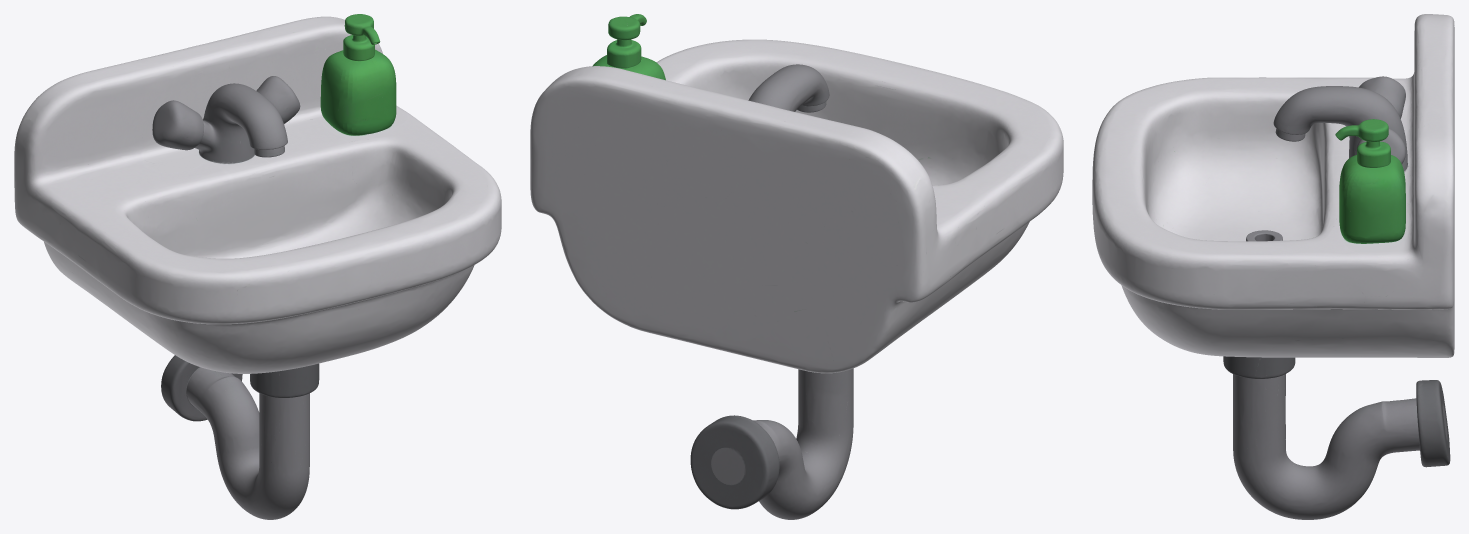
Rendered from Meshy_AI_Bathroom_Sink_with_Soap_Dispenser_20261026_texture.fbx.
3 views of the same model, side by side, from view 1: azimuth 30°, elevation 25°; view 2: azimuth 150°, elevation 25°; view 3: azimuth 270°, elevation 25° (orthographic). The views are drawn at different scales.
Parts seen in each view (by area): view 1: Mesh_0; view 2: Mesh_0; view 3: Mesh_0.
Boxes of the visible parts, x1=… form: Mesh_0: x1=14, y1=14, x2=501, y2=519; Mesh_0: x1=530, y1=14, x2=1063, y2=519; Mesh_0: x1=1092, y1=14, x2=1454, y2=519.
Bounding box in the file's own units: 164 × 190 × 136.
1 material, 1 textured.
